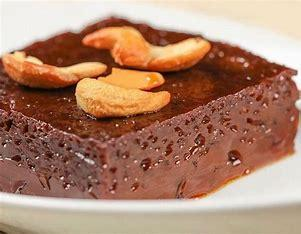Watalappam: (5, 8, 288, 203)
